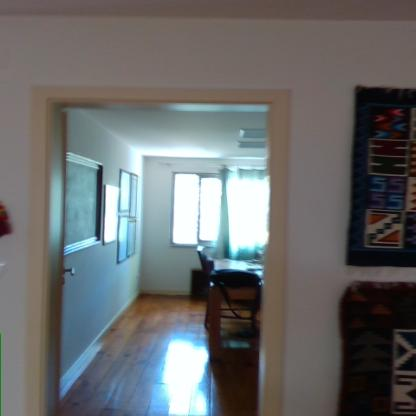open: (26, 62, 312, 404)
